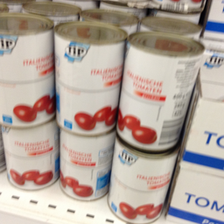tomato_sauce: (116, 31, 205, 152), (53, 19, 128, 137), (106, 138, 181, 224), (1, 14, 55, 127), (58, 128, 114, 201), (1, 123, 60, 192)
